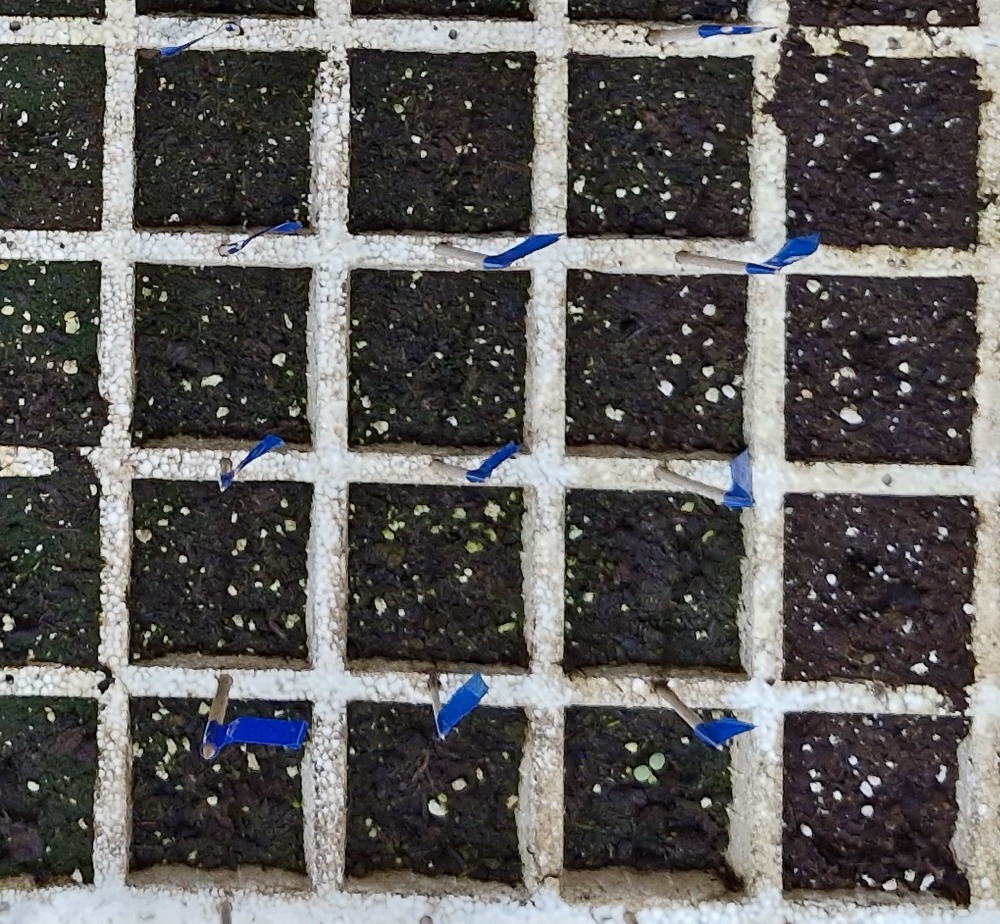Folha: (649, 752, 666, 769), (635, 765, 651, 780)
Germinacao: (634, 752, 666, 783)
